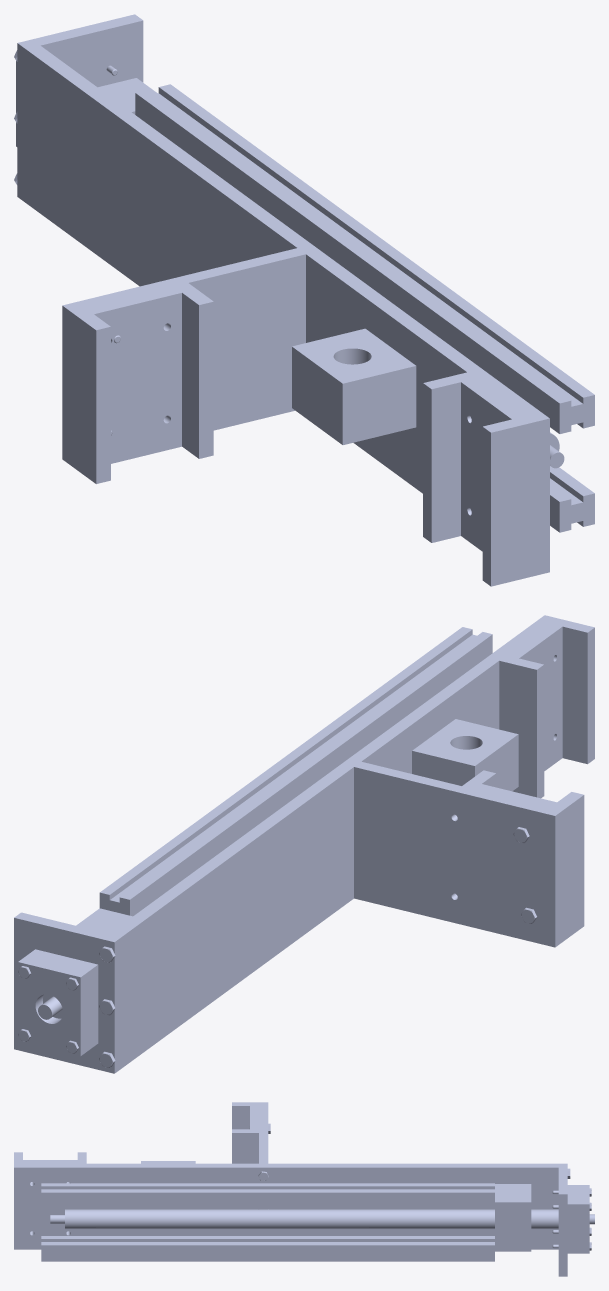
File: Arm2.DAE
3 renders of one model, top to bottom at view 1: azimuth 30°, elevation 25°; view 2: azimuth 150°, elevation 25°; view 3: azimuth 270°, elevation 25°, orthographic. The views are drawn at different scales.
Visible parts, largest first — view 1: AST27F01452-DC_Brep (×2); view 2: AST27F01452-DC_Brep (×2); view 3: AST27F01452-DC_Brep.
Boxes of the visible parts, left/top/right/bottom form: AST27F01452-DC_Brep (×2): left=14, top=14, right=594, bottom=586; AST27F01452-DC_Brep (×2): left=14, top=615, right=594, bottom=1073; AST27F01452-DC_Brep: left=14, top=1102, right=594, bottom=1276.
Bounding box in the file's own units: 0.36 × 0.96 × 0.15.
